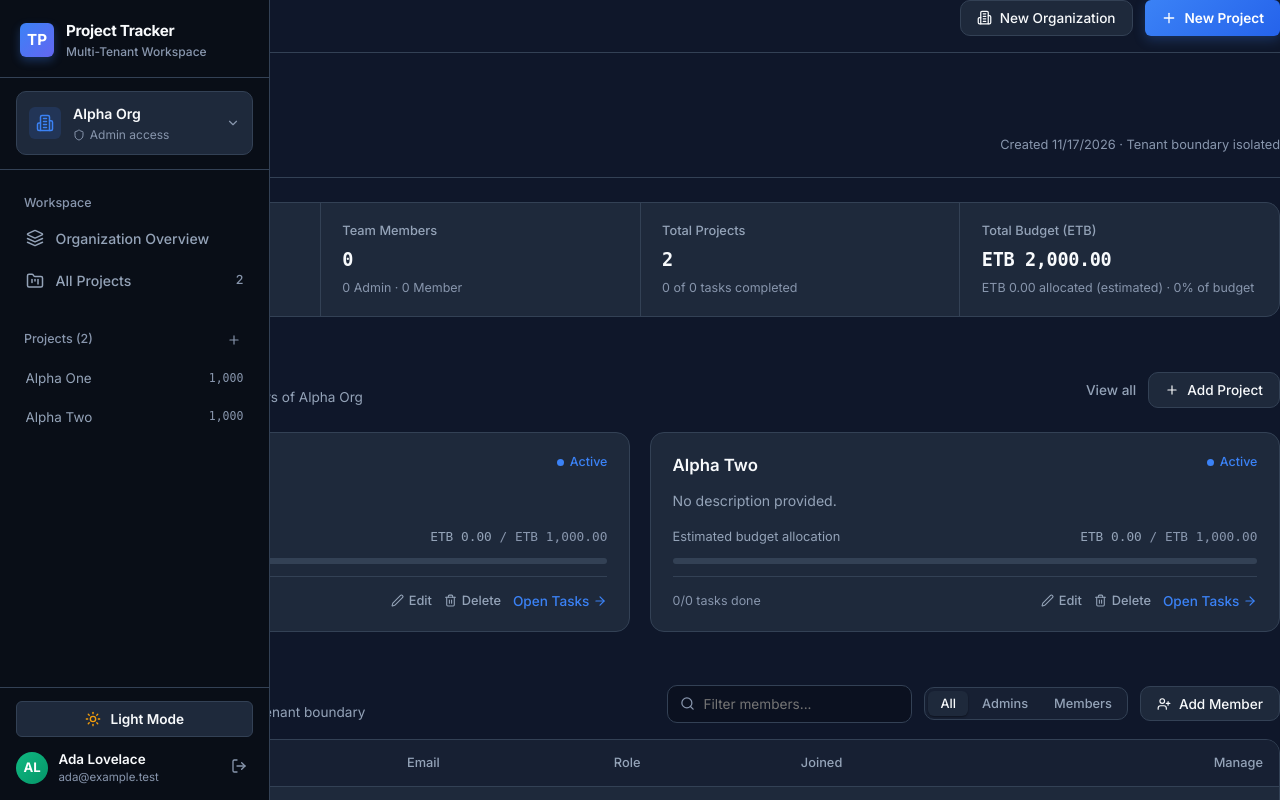
Failed operations never change the sidebar › a rejected edit keeps the old name in the sidebar and does not refetch
Click the button with aria-label "Edit project Alpha One": click(411, 601) [391,594,432,608]
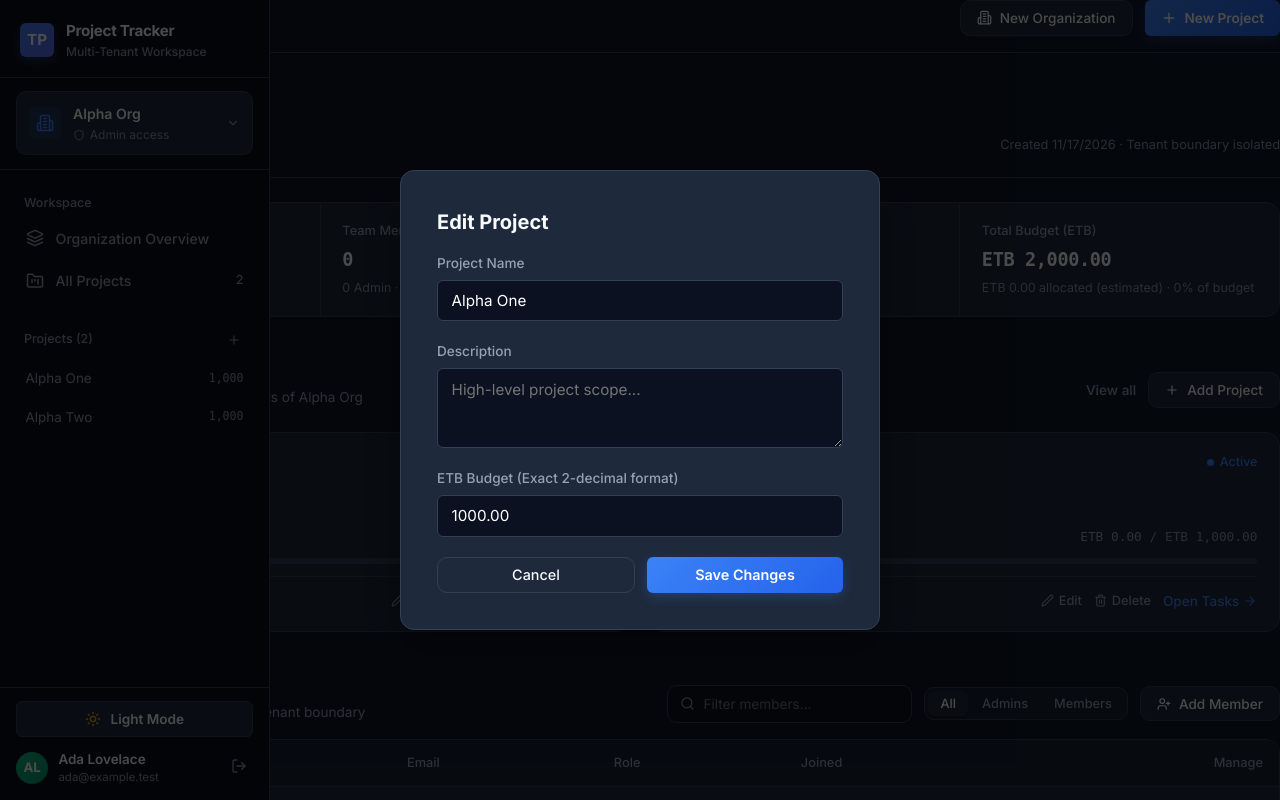
Replace the text in the field labelled "Project Name" with "Renamed But Rejected": (640, 300) [437,280,843,321]
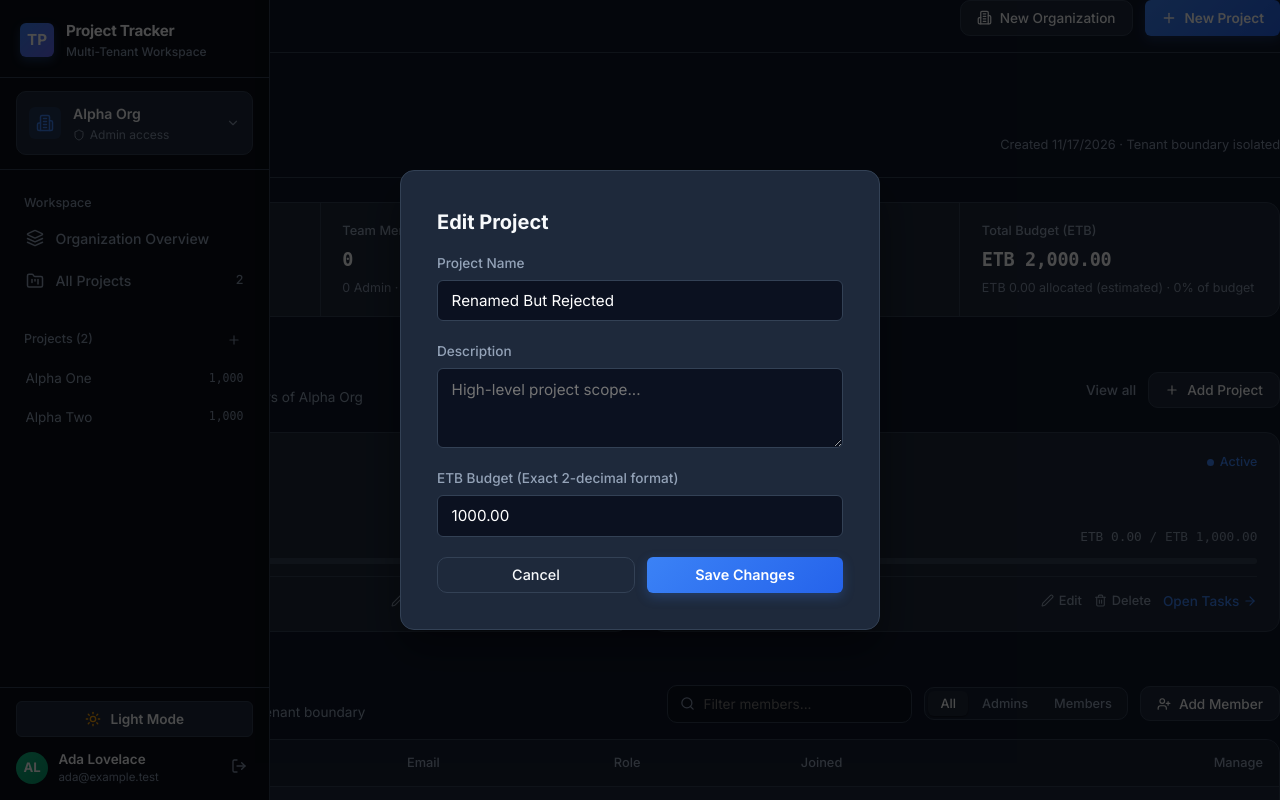
Click the button "Save Changes": click(745, 575) [647,556,843,593]
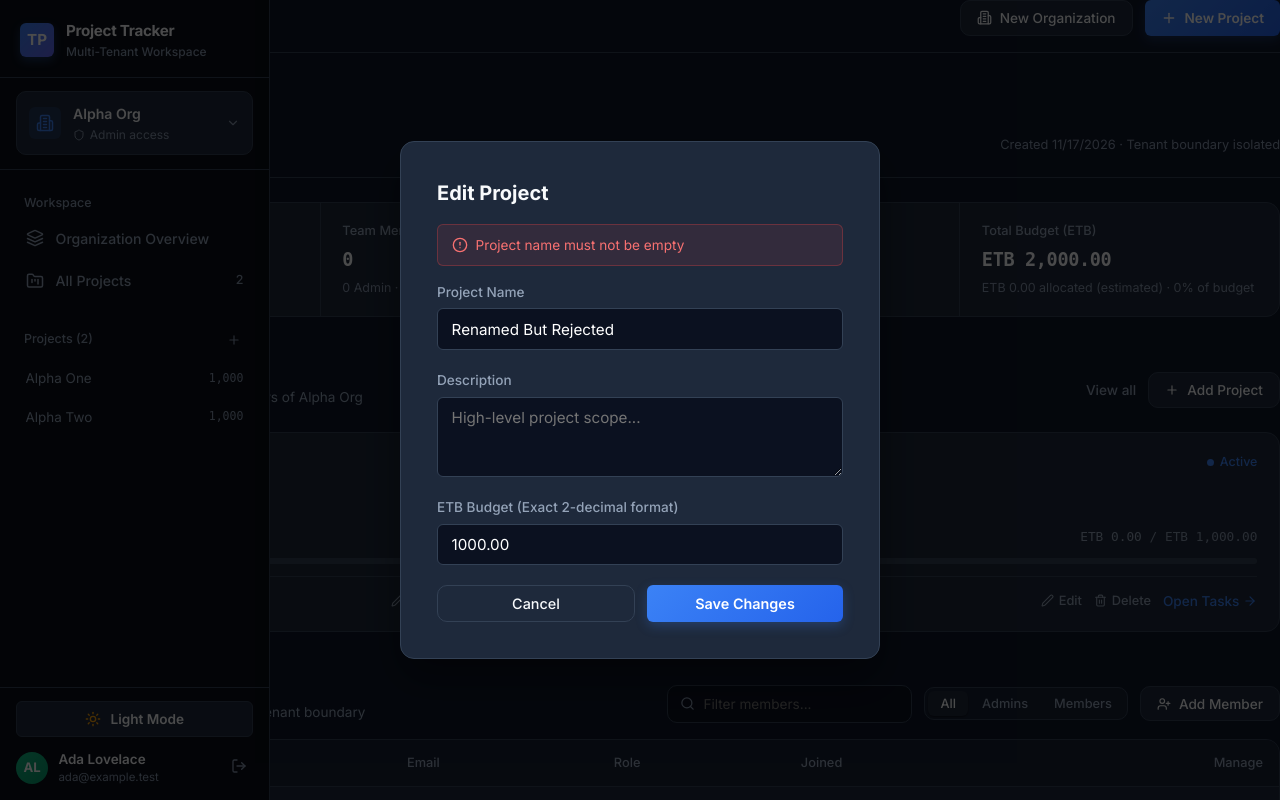
Expected: the text "Projects (2)" is shown, [24,330,93,349]
Now the text "Project name must not be empty" is shown, box [476,235,684,255]
